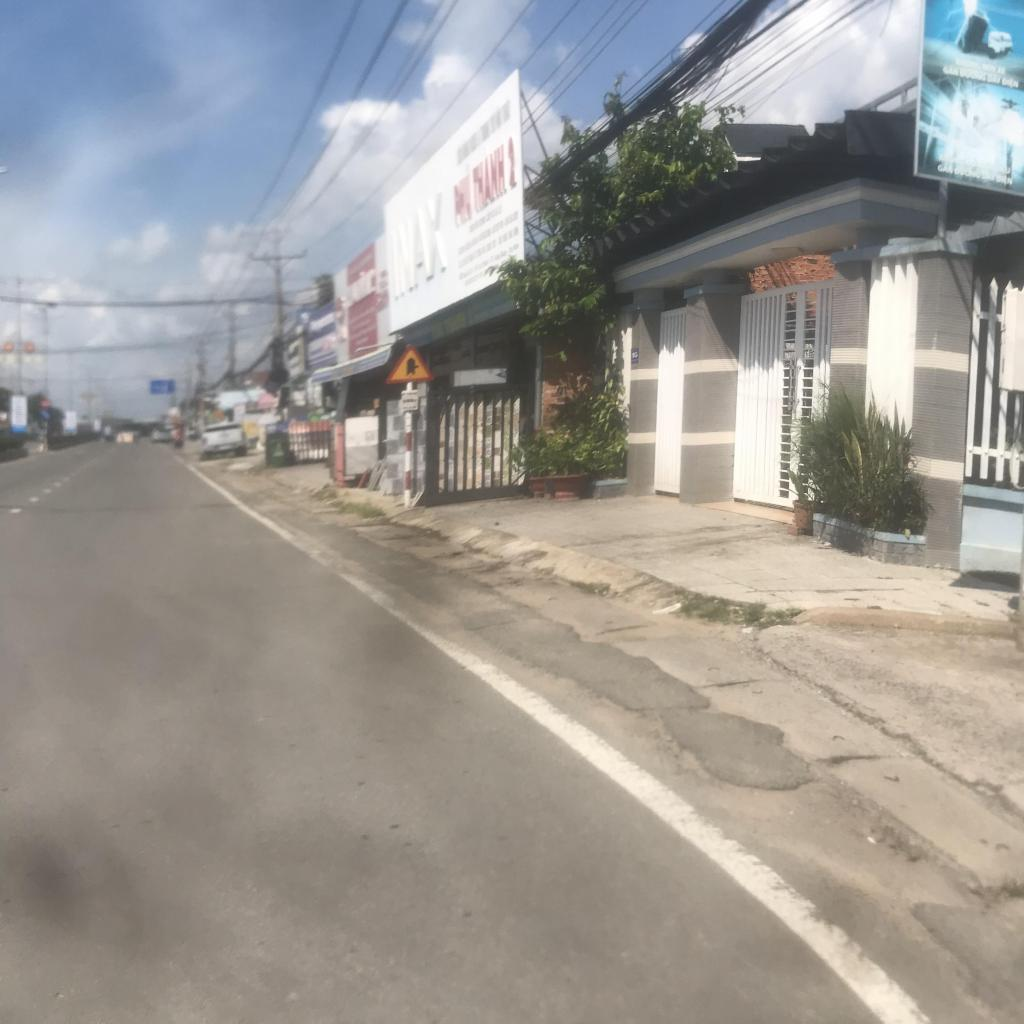cam_xe_di_nguoc_chieu: (41, 398, 50, 408)
giao_nhau_voi_duong_khong_uu_tien: (384, 344, 436, 384)
huong_phai_di_vuot_chuong_ngai_vat_phai: (39, 409, 50, 419)
khac: (151, 380, 174, 394)
